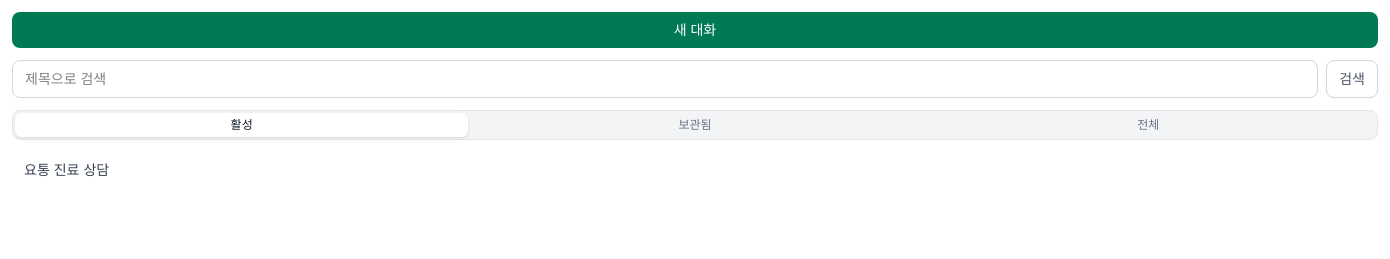
Test: 대화 삭제 › 취소하면 삭제하지 않고 목록 행으로 돌아간다
The image size is (1390, 259).
Click the button "요통 진료 상담".
click(67, 170)  # box [12,152,1378,188]
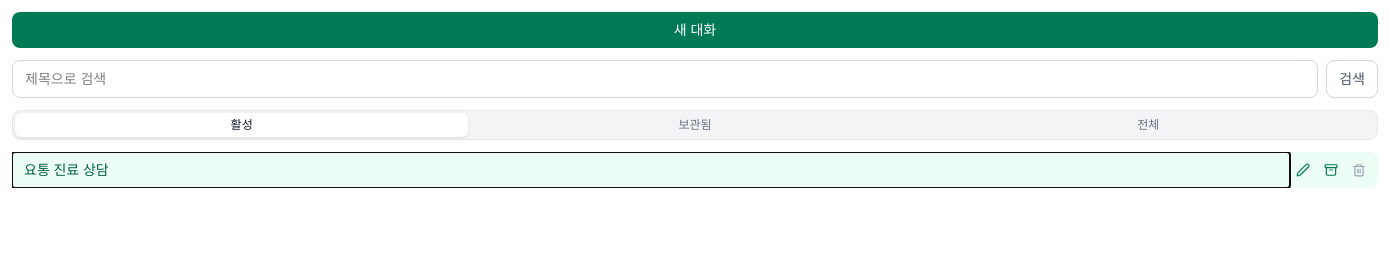
Click the button named "삭제".
click(1359, 170)  # box [1346,157,1372,183]
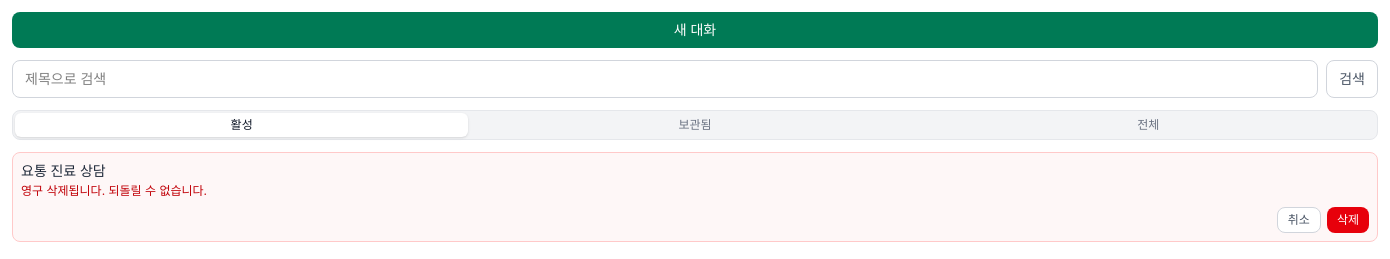
Click the button "취소".
click(1299, 220)  # box [1277,207,1321,233]
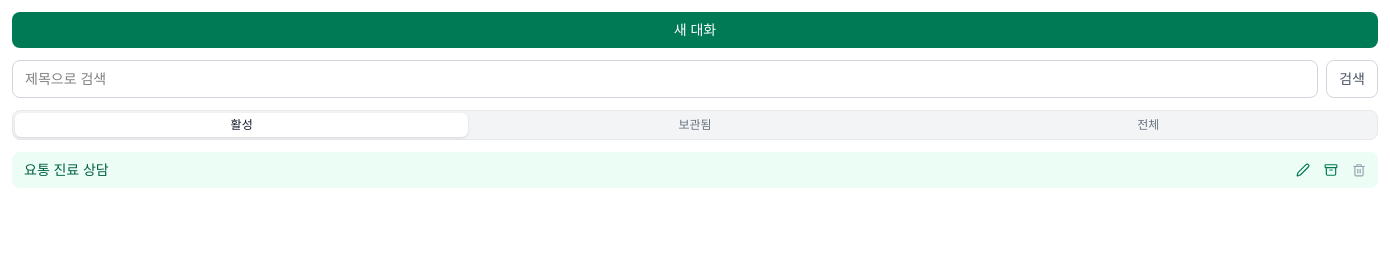
Expected: the button "요통 진료 상담" is shown, [12,152,1290,188]
Now the text "영구 삭제됩니다. 되돌릴 수 없습니다." is gone
